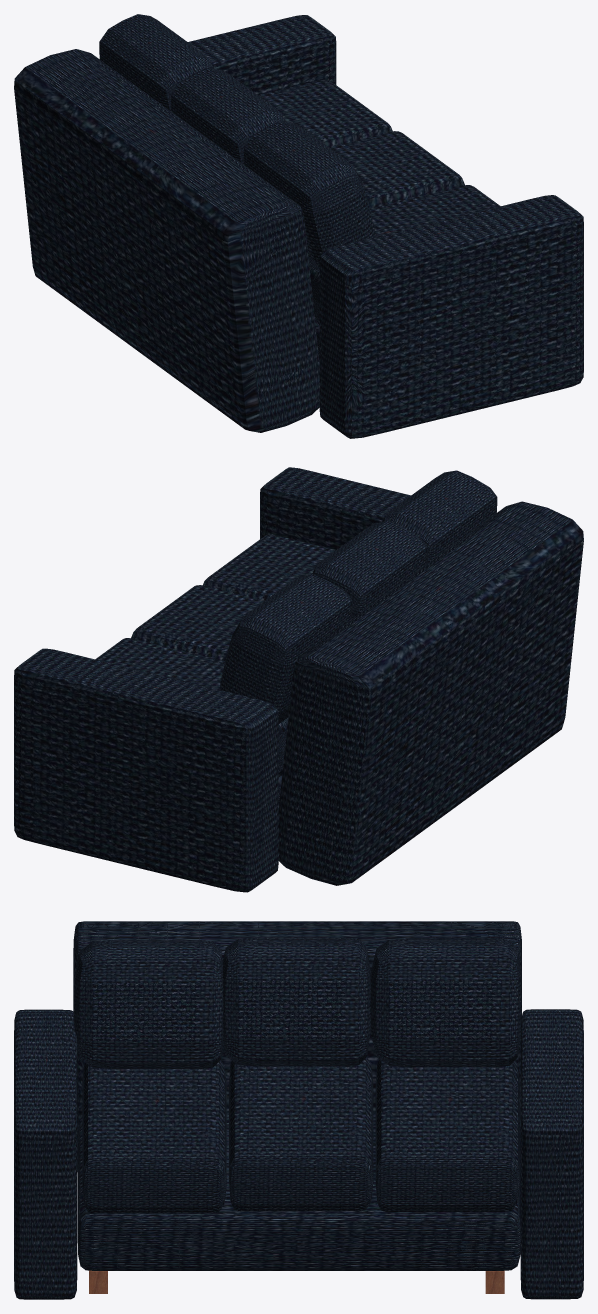
Rendered from dyvan.dae.
The picture shows the model from 3 angles, top to bottom: view 1: azimuth 30°, elevation 25°; view 2: azimuth 150°, elevation 25°; view 3: azimuth 270°, elevation 25°; orthographic projection. The views are drawn at different scales.
Visible parts, largest first — view 1: divan; view 2: divan; view 3: divan.
Part boxes in pixels (x1=…): divan: x1=14, y1=14, x2=583, y2=438; divan: x1=14, y1=467, x2=583, y2=892; divan: x1=14, y1=921, x2=583, y2=1299.
Size of the model in its own units: 6.17 by 9 by 4.43.
